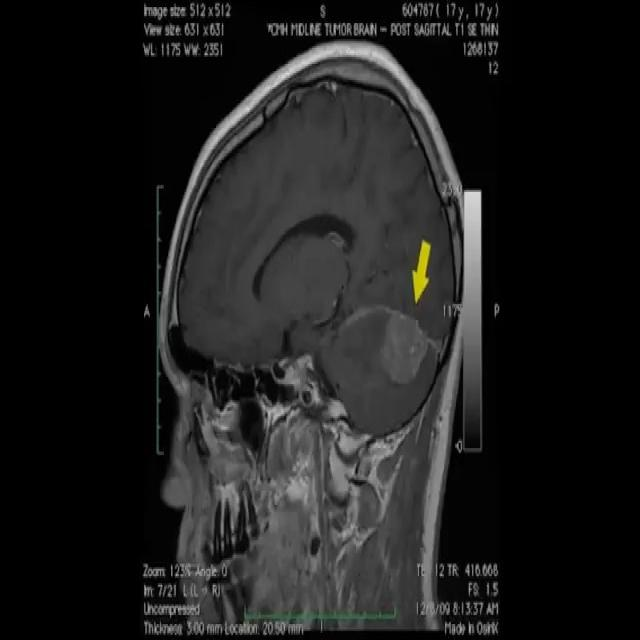tumor: (372, 283, 435, 411)
